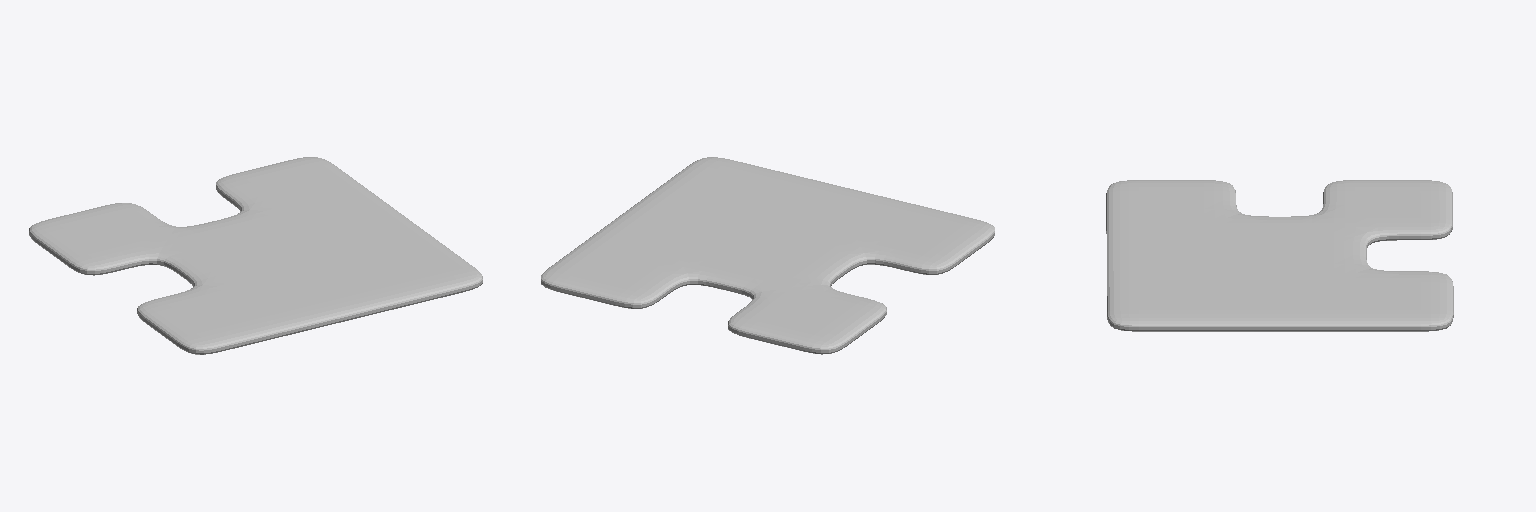
Rendered from GoldenPuzzle-21-OOFF.obj.
3 renders of one model, left to right at view 1: azimuth 30°, elevation 25°; view 2: azimuth 150°, elevation 25°; view 3: azimuth 270°, elevation 25°, orthographic.
Parts seen in each view (by area): view 1: Puzzle.021; view 2: Puzzle.021; view 3: Puzzle.021.
Part boxes in pixels (left/top/right/bottom): Puzzle.021: left=29, top=157, right=482, bottom=354; Puzzle.021: left=541, top=157, right=994, bottom=354; Puzzle.021: left=1106, top=180, right=1453, bottom=331.
Bounding box in the file's own units: 0.25 × 0.0092 × 0.2513.